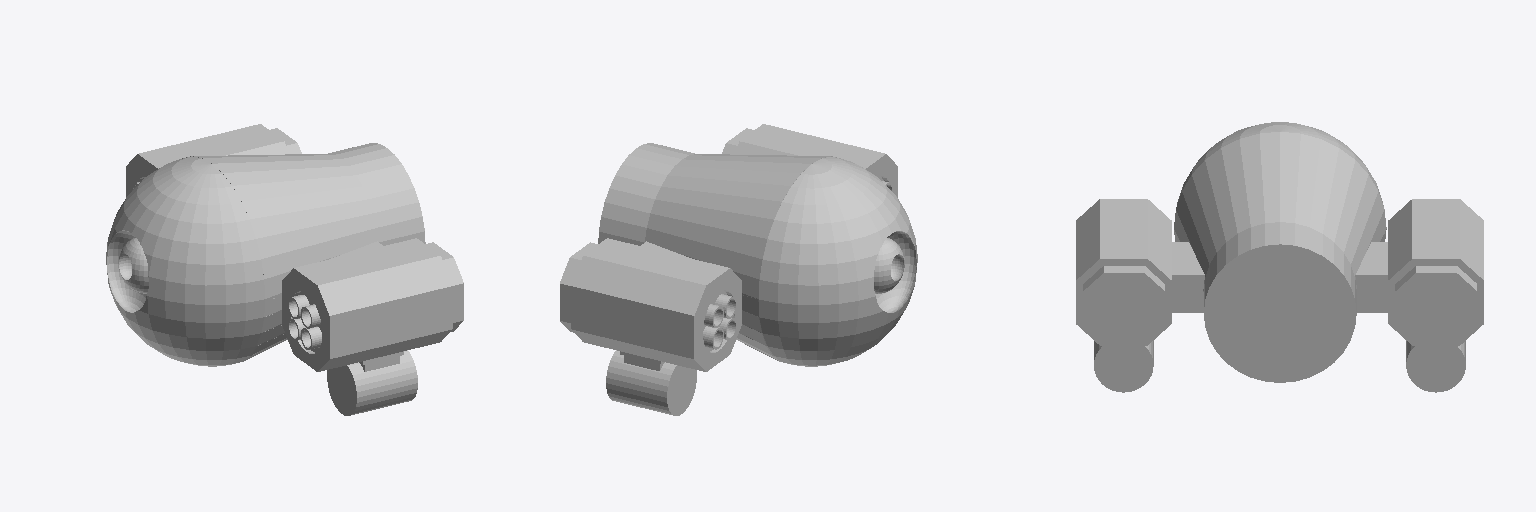
Rendered from BossHead.obj.
The picture shows the model from 3 angles: view 1: azimuth 30°, elevation 25°; view 2: azimuth 150°, elevation 25°; view 3: azimuth 270°, elevation 25°; orthographic projection.
Parts seen in each view (by area): view 1: Cylinder.001, Sphere.002; view 2: Cylinder.001, Sphere.002; view 3: Cylinder.001.
Boxes of the visible parts, box(x1,y1,x2,y2) form: Cylinder.001: box(106, 124, 463, 415); Sphere.002: box(119, 238, 148, 293); Cylinder.001: box(560, 124, 917, 415); Sphere.002: box(874, 238, 904, 293); Cylinder.001: box(1076, 122, 1483, 392).
Size of the model in its own units: 14.8 by 11.07 by 19.89.